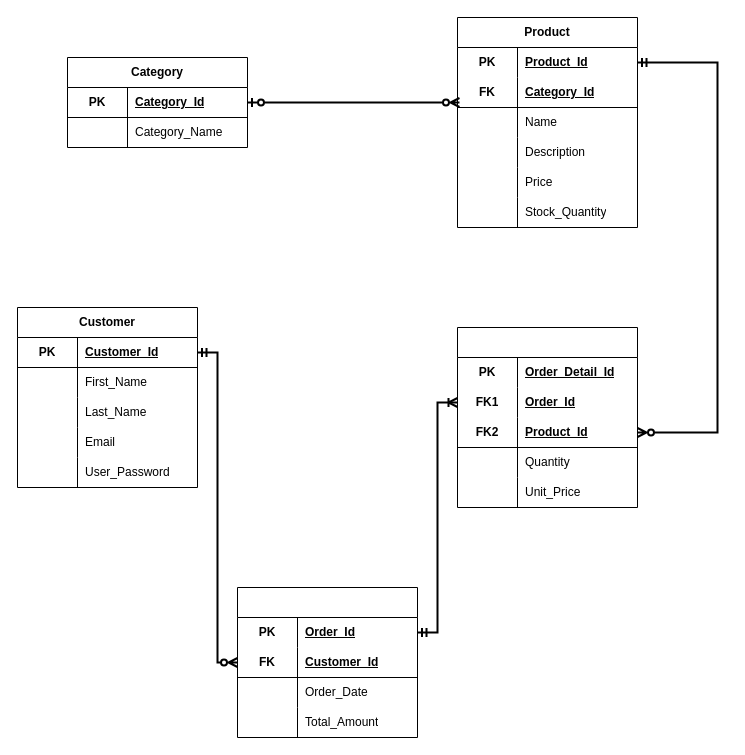
This 745x755 diagram has some shape labels left out. The box of each missing label's shape, as (x1, y1, x2, y2) in pixels:
Customer_Order: (236, 586, 418, 738)
Order_Details: (456, 326, 638, 508)
